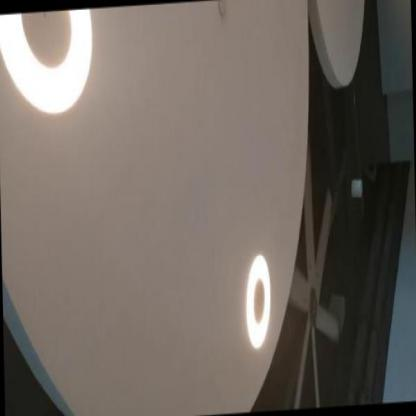light_on: (0, 7, 108, 126), (238, 231, 281, 365)
